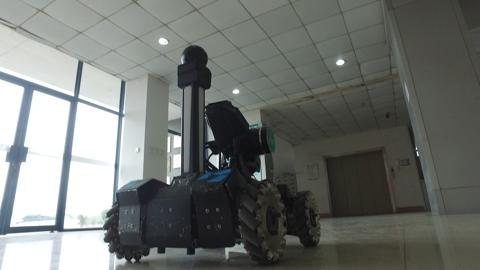chariot: (97, 35, 330, 269)
